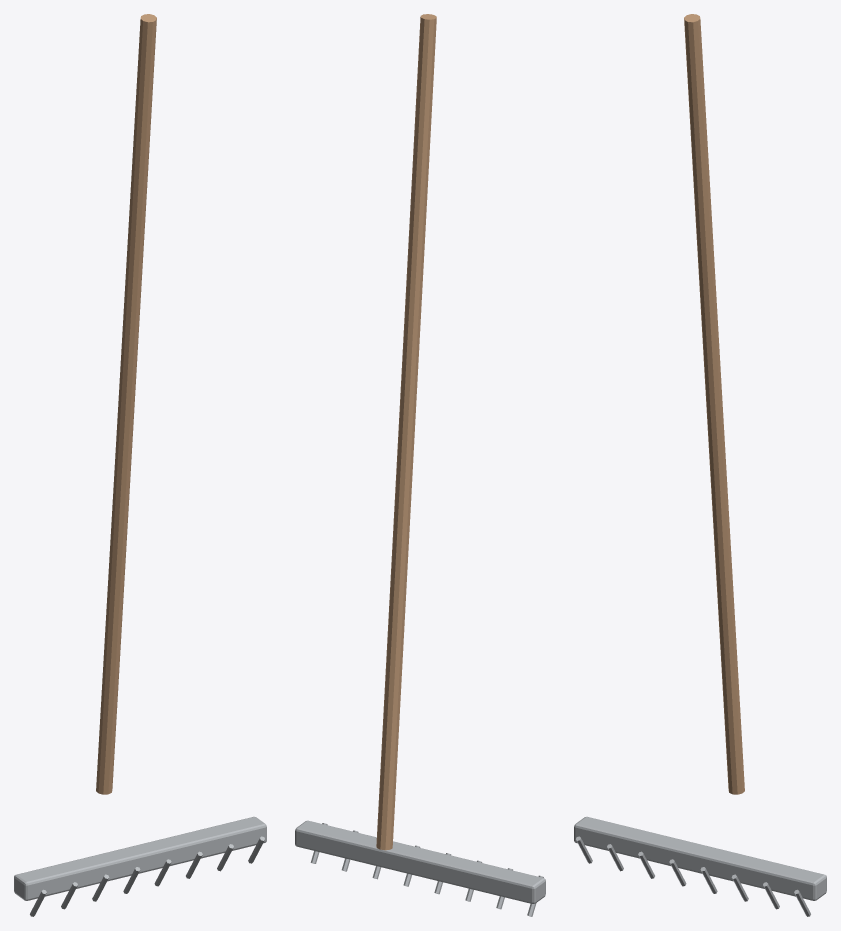
Rendered from hh_rake.glb.
3 renders of one model, left to right at view 1: azimuth 30°, elevation 25°; view 2: azimuth 150°, elevation 25°; view 3: azimuth 330°, elevation 25°, orthographic.
Visible parts, largest first — view 1: handle, head; view 2: handle, head; view 3: handle, head.
Part boxes in pixels (left/top/right/bottom): handle: left=96, top=14, right=156, bottom=794; head: left=14, top=816, right=266, bottom=900; handle: left=376, top=14, right=436, bottom=850; head: left=295, top=820, right=545, bottom=903; handle: left=684, top=14, right=744, bottom=794; head: left=574, top=816, right=826, bottom=900.
Bounding box in the file's own units: 0.4 × 1.38 × 0.1558.
